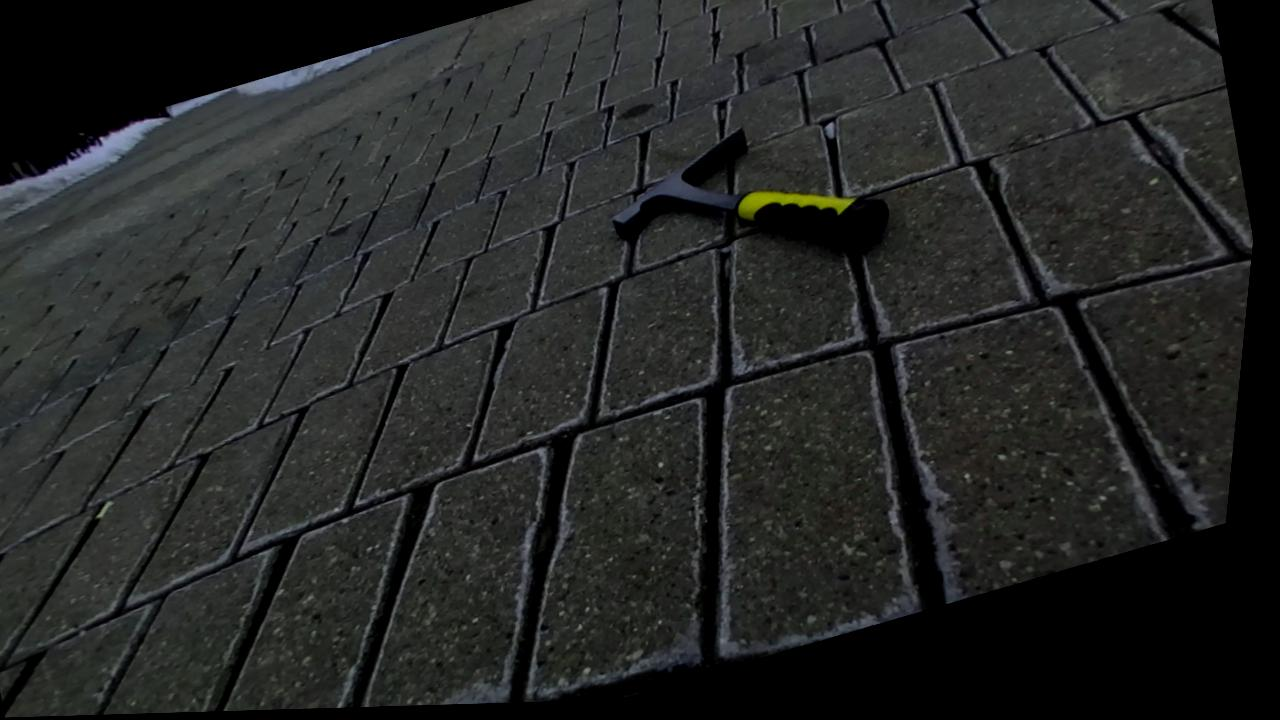pick: (612, 128, 887, 248)
